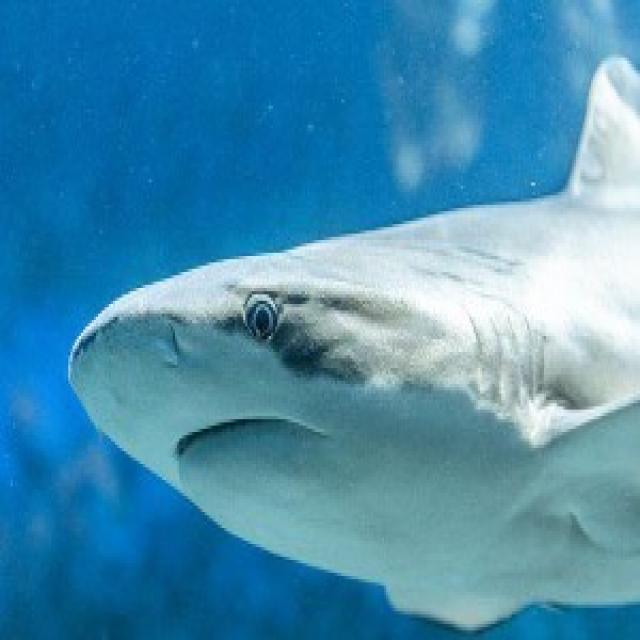Shark: (61, 48, 639, 637)
